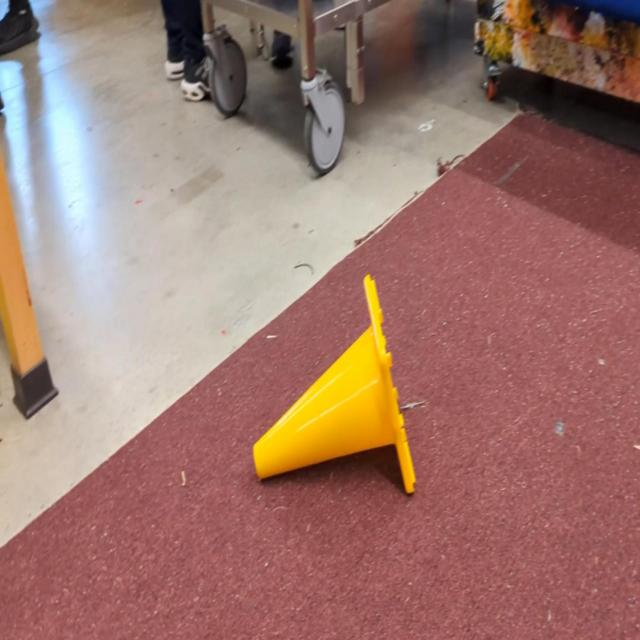frc_cone: (254, 273, 415, 497)
